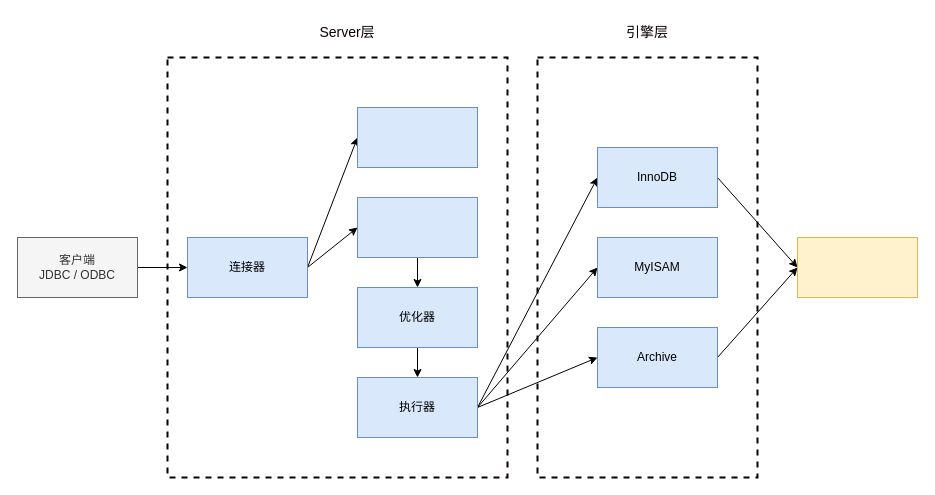
Image size: 935x495. Some labels were removed from this diagram. Each missing label, with the box of its shape:
分析器: (356, 196, 478, 258)
文件系统: (796, 236, 918, 298)
查询缓存: (356, 106, 478, 168)
